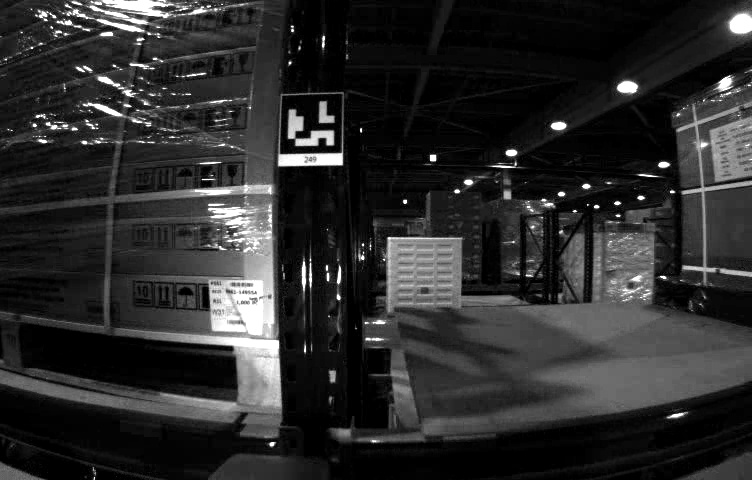True Barcode: (206, 277, 268, 337)
